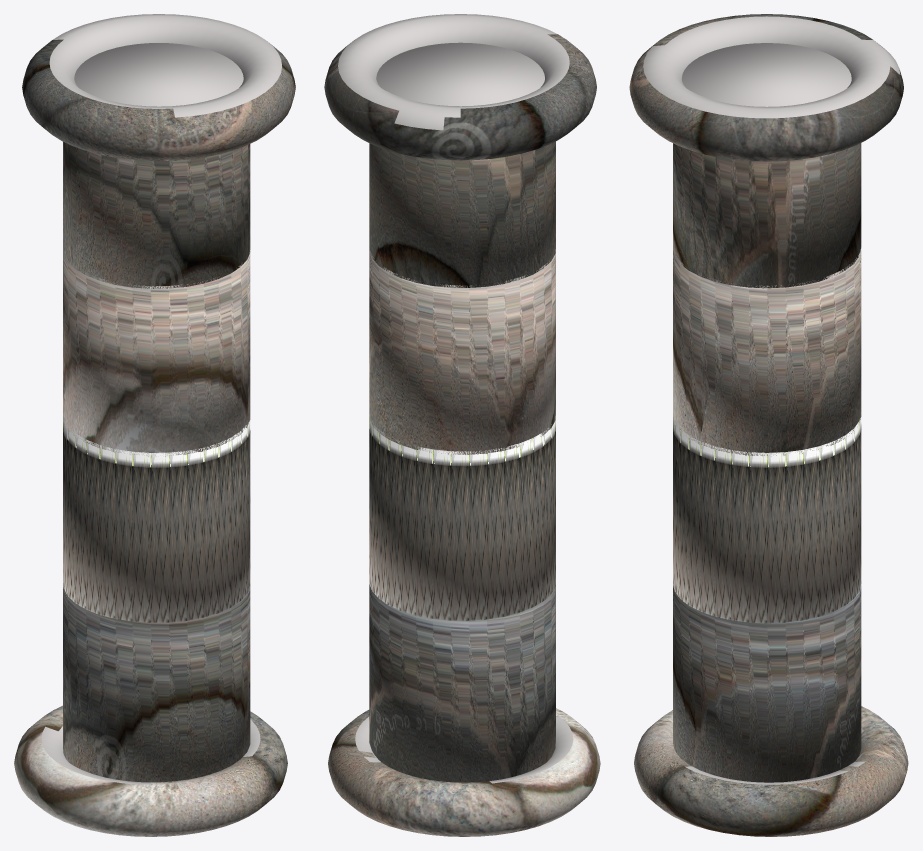
Rendered from shoppillar.glb.
The picture shows the model from 3 angles, left to right: view 1: azimuth 30°, elevation 25°; view 2: azimuth 150°, elevation 25°; view 3: azimuth 270°, elevation 25°; orthographic projection.
Parts seen in each view (by area): view 1: Cylinder.002_Cylinder.001, Torus.001_Torus; view 2: Cylinder.002_Cylinder.001, Torus.001_Torus; view 3: Cylinder.002_Cylinder.001, Torus.001_Torus.
Boxes of the visible parts, box(x1,y1,x2,y2) form: Cylinder.002_Cylinder.001: box(22, 14, 295, 782); Torus.001_Torus: box(14, 705, 287, 836); Cylinder.002_Cylinder.001: box(324, 14, 596, 782); Torus.001_Torus: box(328, 708, 600, 836); Cylinder.002_Cylinder.001: box(629, 14, 903, 782); Torus.001_Torus: box(634, 706, 908, 836).
Size of the model in its own units: 0.7485 by 2.14 by 0.7425.
2 materials, 2 textured.
